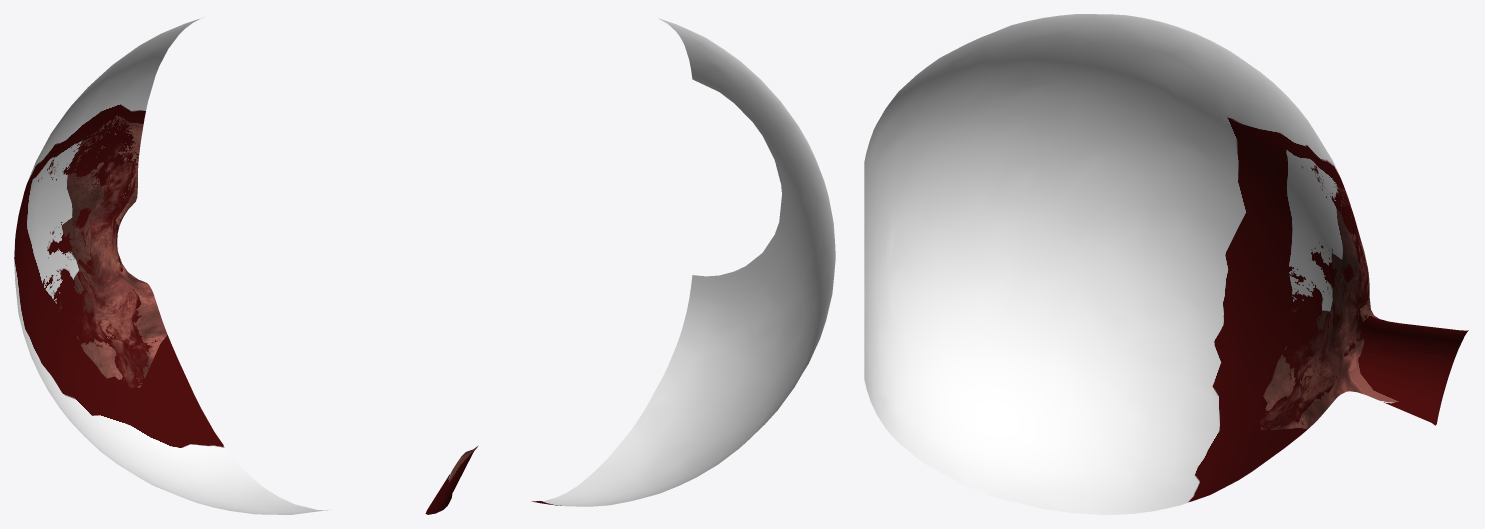
The model's file is Eye_WAMD_Leak.glb.
3 views of the same model, side by side, from view 1: azimuth 30°, elevation 25°; view 2: azimuth 150°, elevation 25°; view 3: azimuth 270°, elevation 25° (orthographic). The views are drawn at different scales.
Visible parts, largest first — view 1: Eye_Macula_Blood001; view 2: Eye_Macula_Blood001; view 3: Eye_Macula_Blood001.
Part boxes in pixels (x1,y1,x2,y2): Eye_Macula_Blood001: (14, 17, 330, 514); Eye_Macula_Blood001: (425, 18, 835, 514); Eye_Macula_Blood001: (864, 14, 1468, 514).
Bounding box in the file's own units: 4.18 × 8.25 × 9.49.
1 material, 1 textured.
